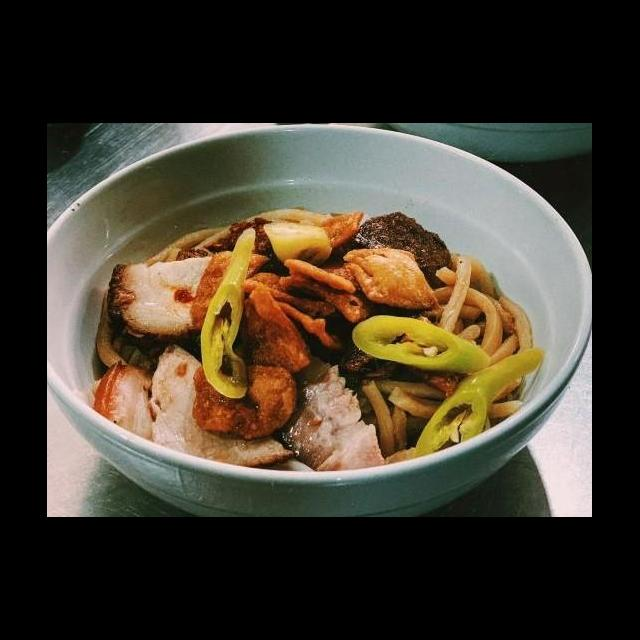banh da: (338, 196, 451, 281), (294, 289, 400, 371), (260, 315, 366, 386), (328, 263, 406, 359), (368, 307, 454, 393), (196, 327, 300, 395), (272, 389, 324, 430)
mi: (105, 220, 216, 392), (183, 171, 284, 268)
mi quang: (48, 163, 592, 517)
thit heo: (340, 167, 498, 298), (250, 167, 376, 290), (368, 300, 532, 394), (478, 193, 548, 283)
